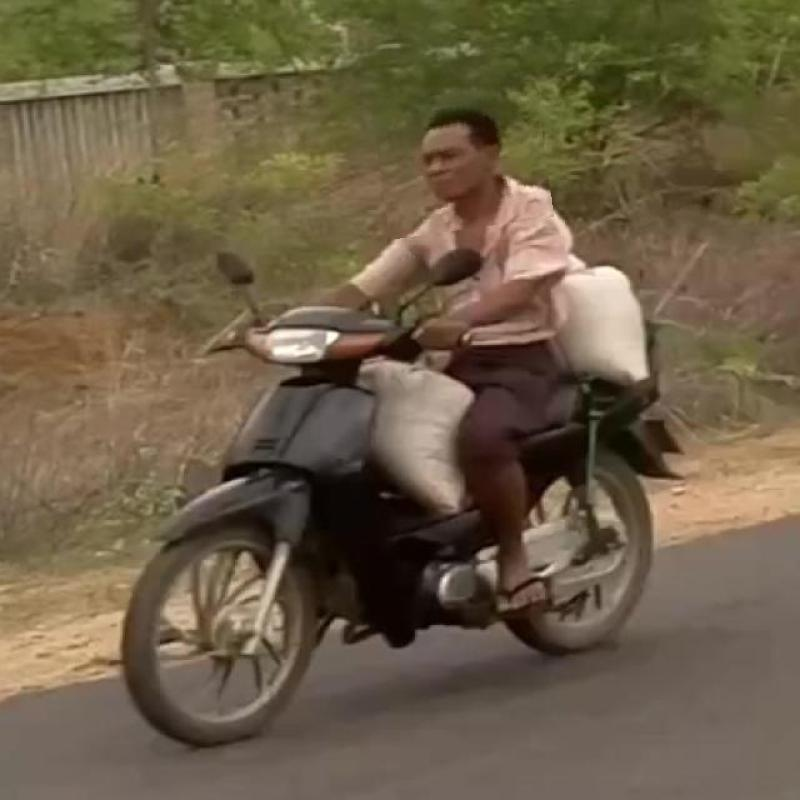nohelmet: (376, 86, 550, 234)
